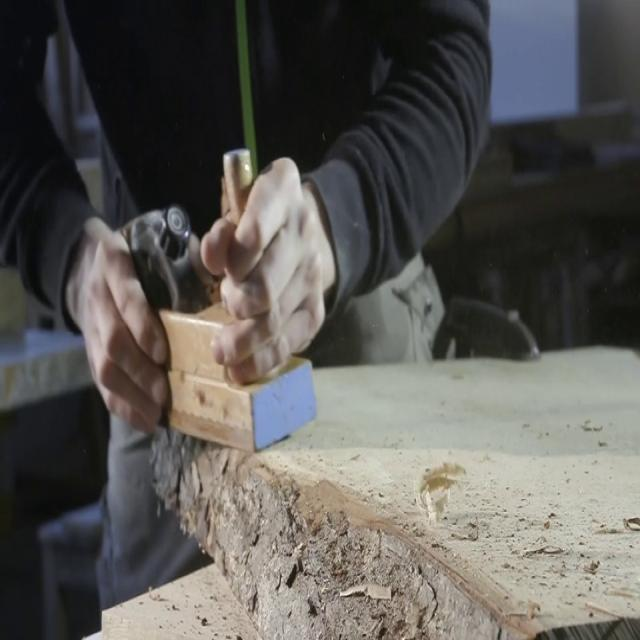not-gloved: (200, 153, 336, 386), (64, 215, 172, 436)
